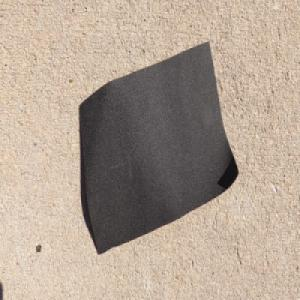PaintChip: (78, 40, 239, 257)
